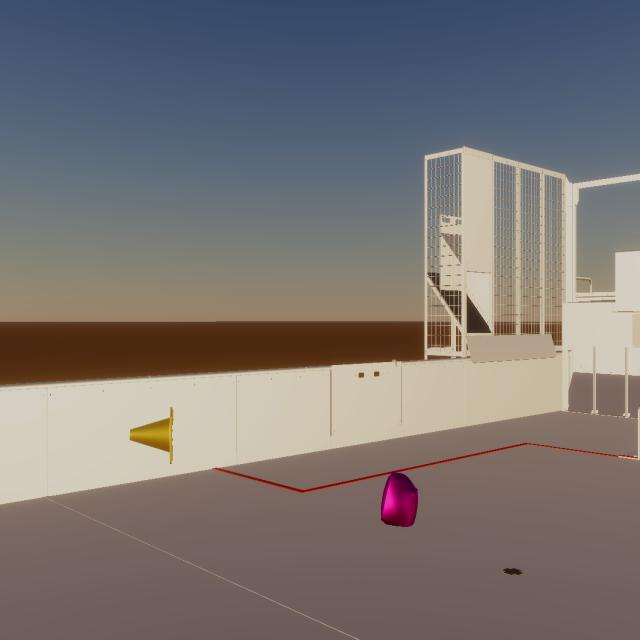frc_cone: (130, 407, 173, 464)
frc_cube: (381, 472, 418, 527)
